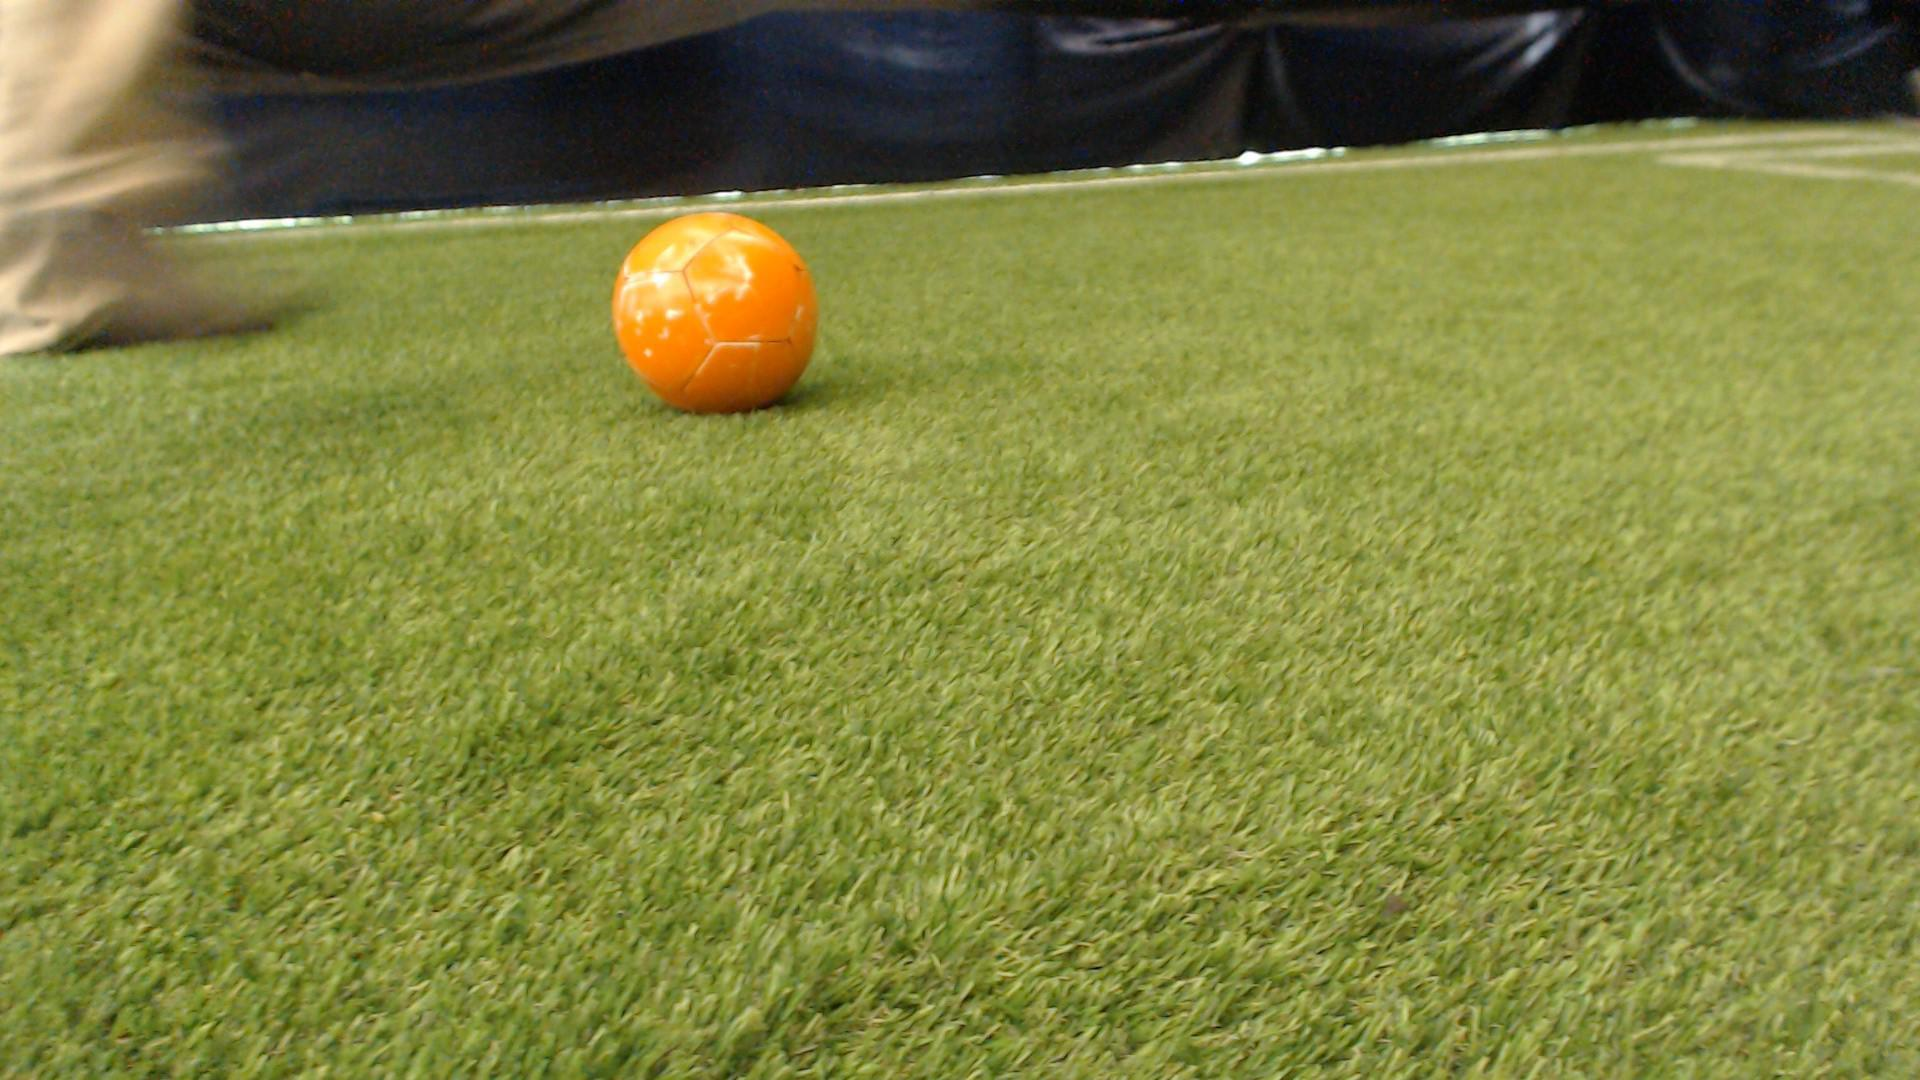bola: (584, 181, 862, 426)
